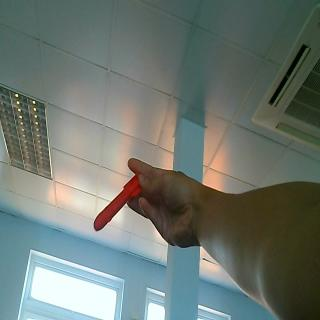Rocket: (94, 171, 140, 233)
